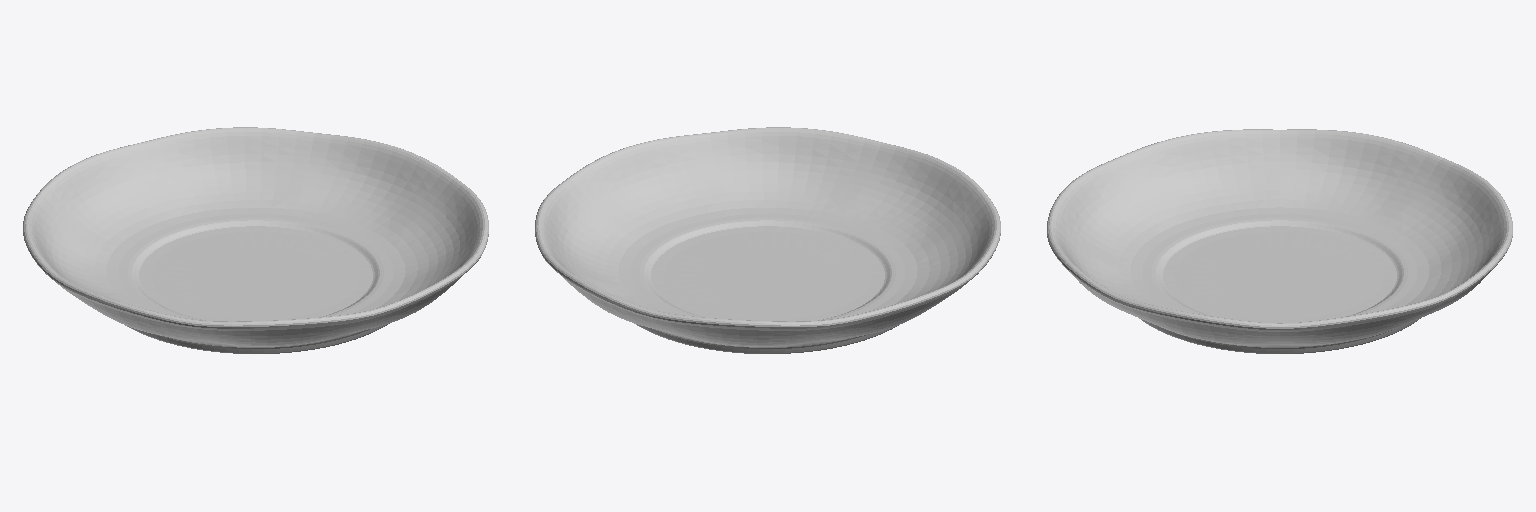
The model's file is plate.obj.
The picture shows the model from 3 angles: view 1: azimuth 30°, elevation 25°; view 2: azimuth 150°, elevation 25°; view 3: azimuth 270°, elevation 25°; orthographic projection.
Parts seen in each view (by area): view 1: Line19; view 2: Line19; view 3: Line19.
Part boxes in pixels (x1,y1,x2,y2): Line19: (23, 127, 488, 353); Line19: (535, 127, 1000, 353); Line19: (1047, 129, 1512, 353).
Size of the model in its own units: 139 by 20.97 by 139.